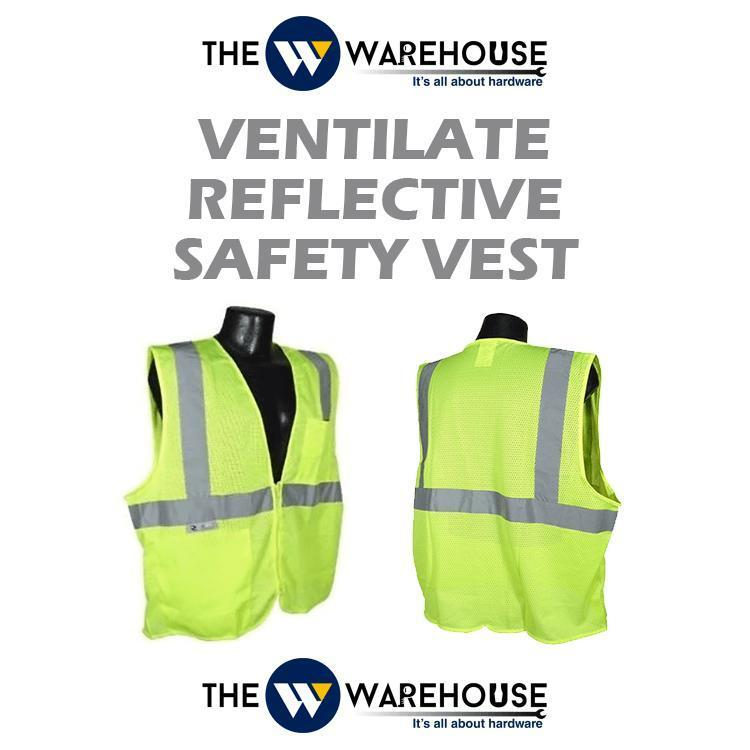vest: (123, 336, 342, 639), (412, 333, 618, 648)
